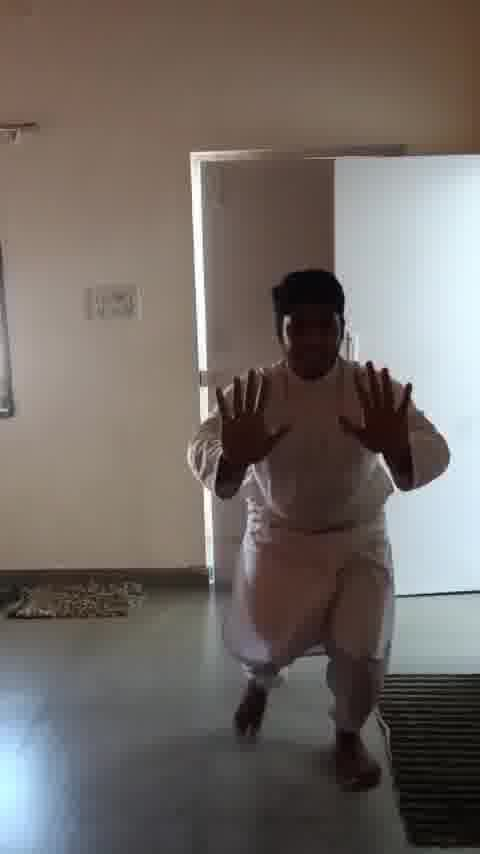duck: (181, 262, 447, 810)
